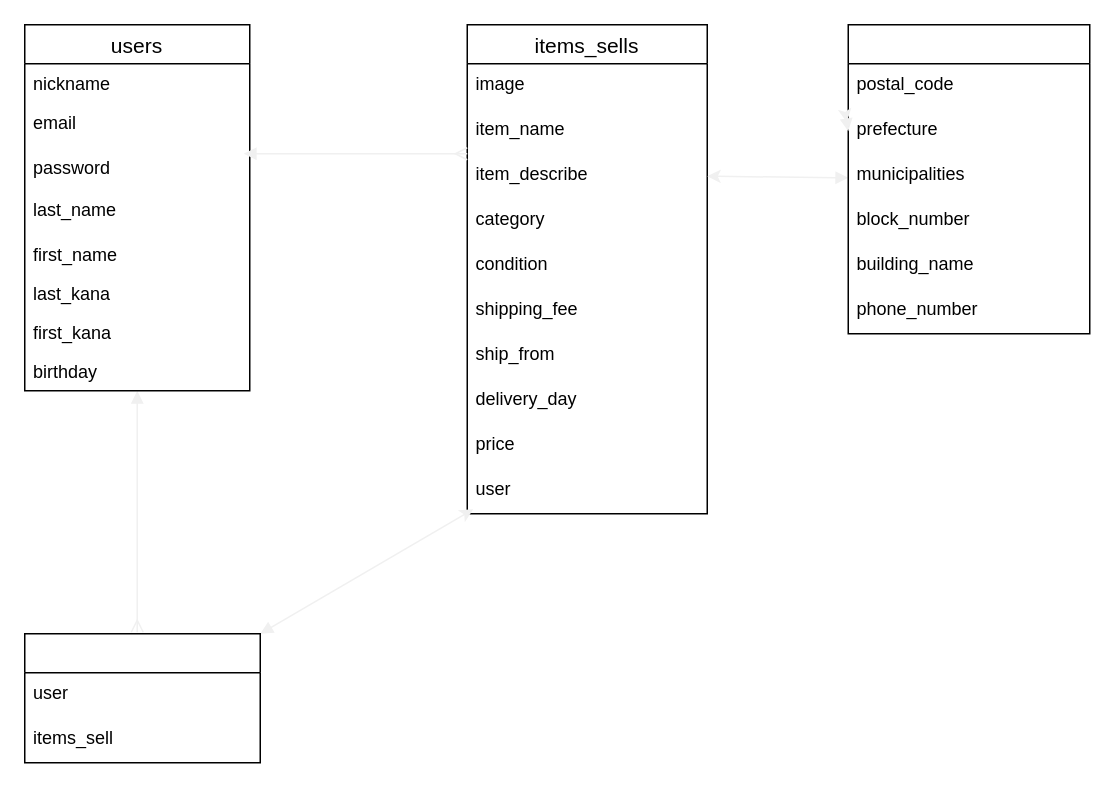
Some shapes in this 1115 by 788 pixel diagram are drawn without their labels. Here are the shapes that lost their labels. From the top down, the box of each, then its label:
(847, 23, 1090, 334): address
(23, 632, 260, 763): Items_buys
